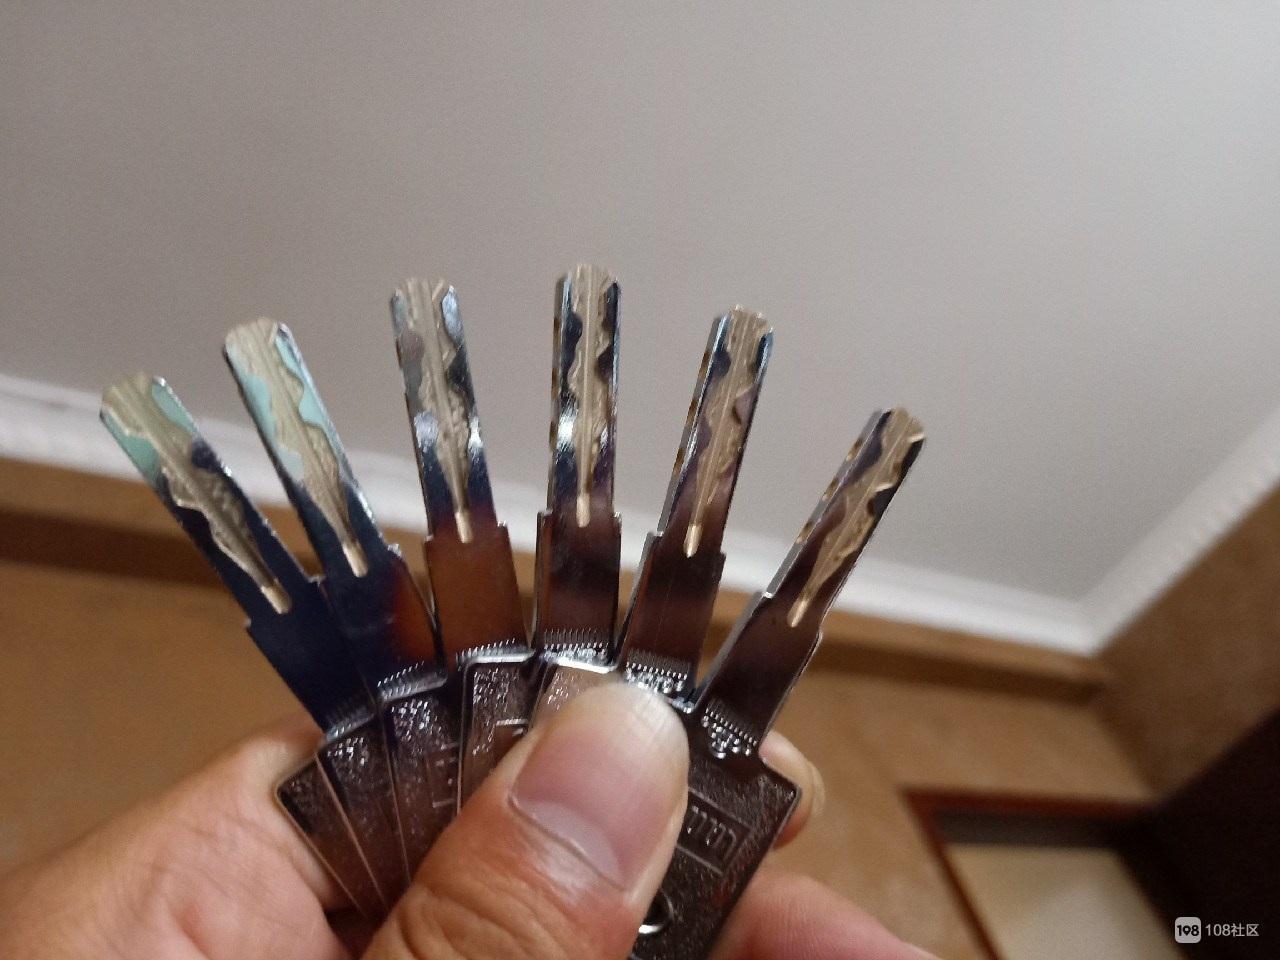key: (71, 351, 560, 929), (193, 297, 586, 931), (542, 359, 910, 951), (344, 247, 640, 914), (513, 237, 765, 895), (434, 253, 702, 859)
